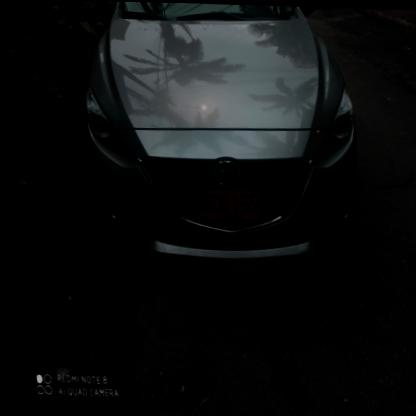placa: (188, 183, 261, 224)
